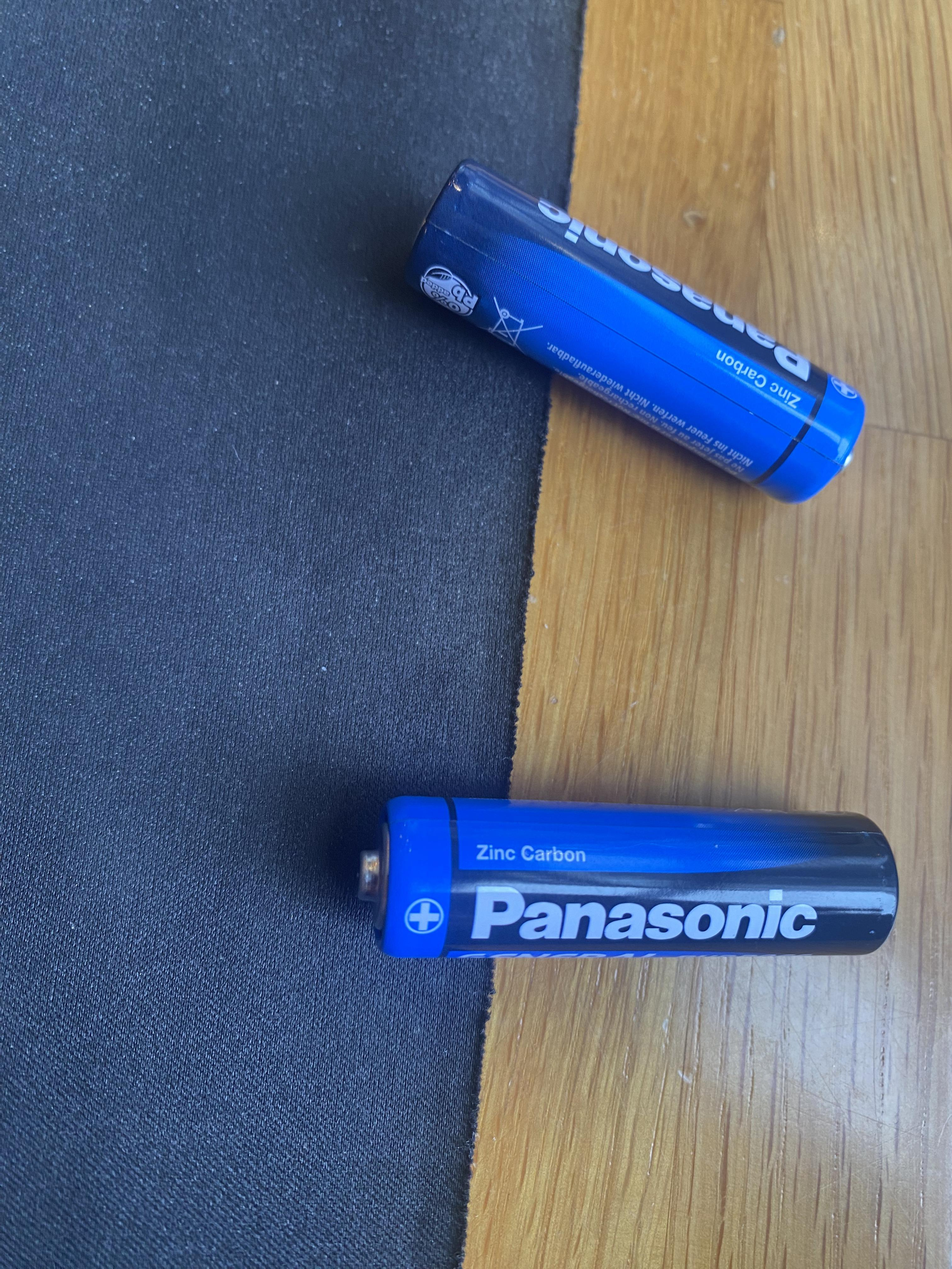AA: (404, 156, 866, 506), (355, 792, 900, 961)
